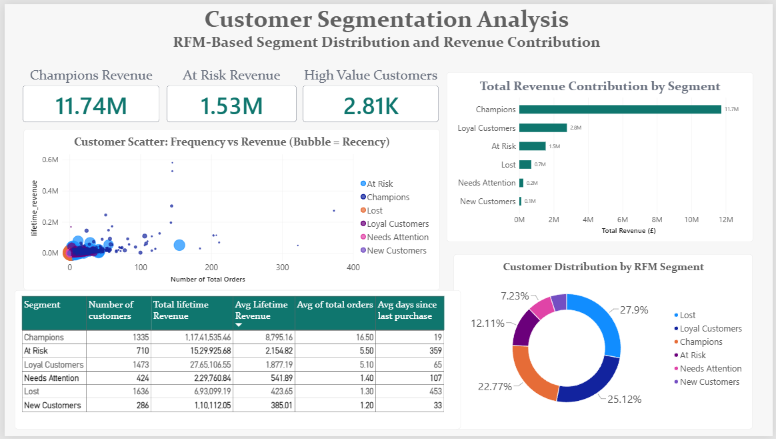

Layout of this report page (visuals, bound fields, positions):
{"tool":"powerbi","page":{"name":"RFM Customer Segments","canvas":[1920,1080],"ordinal":3},"visuals":[{"type":"textbox","box":[357.5,0,1195,155],"z":0},{"type":"textbox","box":[82.5,82.5,177.5,72.5],"z":1000},{"type":"cardVisual","title":"Champions Revenue","fields":{"Data":["Sum(rfm_segments_summary.total_revenue)"]},"box":[45,155,342.5,140],"z":2000},{"type":"cardVisual","title":"High Value Customers","fields":{"Data":["rfm_segments_summary.High Value Customers"]},"box":[745,155,340,140],"z":3000},{"type":"cardVisual","title":"At Risk Revenue","fields":{"Data":["Sum(rfm_segments_summary.total_revenue)"]},"box":[405,155,325,140],"z":4000},{"type":"scatterChart","title":"Customer Scatter: Frequency vs Revenue (Bubble = Recency)","fields":{"Series":["rfm_segments.segment"],"Size":["Avg(rfm_segments.recency_days)"],"X":["rfm_segments.total_orders"],"Y":["rfm_segments.lifetime_revenue"]},"box":[47.5,312.5,1040,402.5],"z":5000},{"type":"donutChart","title":"Customer Distribution by RFM Segment","fields":{"Category":["rfm_segments_summary.segment"],"Y":["Sum(rfm_segments_summary.customers)"]},"box":[1122.5,625,747.5,437.5],"z":6000},{"type":"barChart","title":"Total Revenue Contribution by Segment","fields":{"Category":["rfm_segments_summary.segment"],"Y":["Sum(rfm_segments_summary.total_revenue)"]},"box":[1104,170,766,424],"z":7000},{"type":"tableEx","title":"Summary table","fields":{"Values":["rfm_segments_summary.segment","rfm_segments_summary.customers","rfm_segments_summary.total_revenue","rfm_segments_summary.avg_ltv","rfm_segments_summary.avg_orders","rfm_segments_summary.avg_recency_days"]},"box":[25,715,1115,347.5],"z":8000}]}

Visuals, with their boxes in screenshot pixels (x1, y1, x2, y2), scaled from the page's 1920x1080 canvas onto the 777x439 screenshot:
textbox: pyautogui.locateOnScreen(145, 0, 628, 63)
textbox: pyautogui.locateOnScreen(33, 34, 105, 63)
"Champions Revenue" cardVisual: pyautogui.locateOnScreen(18, 63, 157, 120)
"High Value Customers" cardVisual: pyautogui.locateOnScreen(301, 63, 439, 120)
"At Risk Revenue" cardVisual: pyautogui.locateOnScreen(164, 63, 295, 120)
"Customer Scatter: Frequency vs Revenue (Bubble = Recency)" scatterChart: pyautogui.locateOnScreen(19, 127, 440, 291)
"Customer Distribution by RFM Segment" donutChart: pyautogui.locateOnScreen(454, 254, 757, 432)
"Total Revenue Contribution by Segment" barChart: pyautogui.locateOnScreen(447, 69, 757, 241)
"Summary table" tableEx: pyautogui.locateOnScreen(10, 291, 461, 432)
